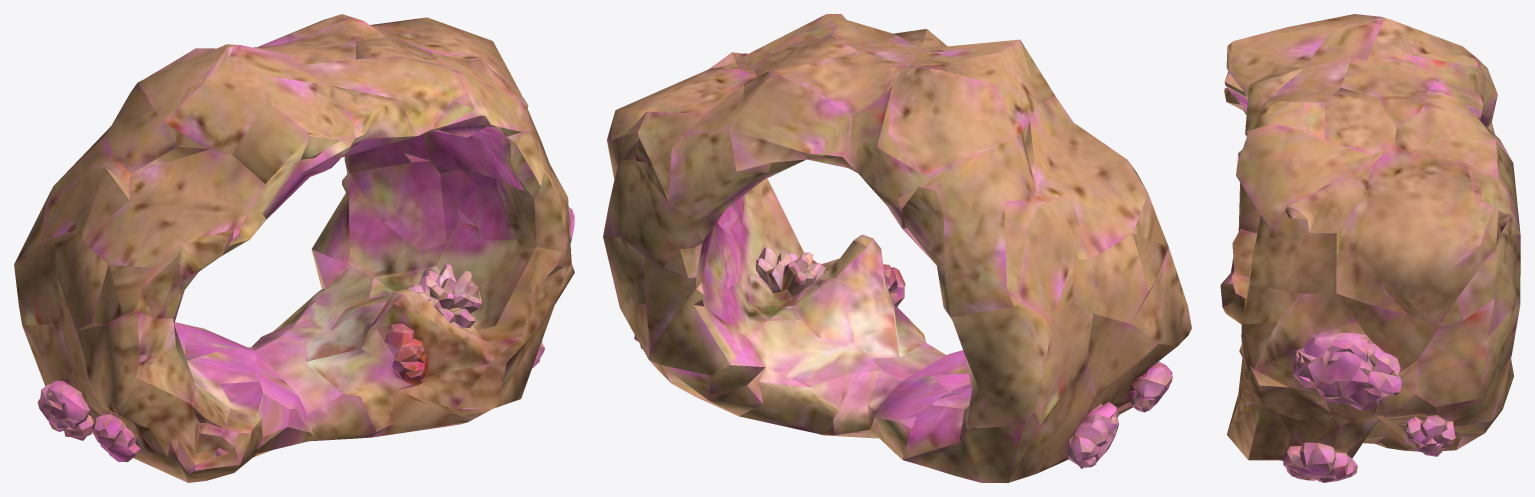
The model's file is coral-arch.lod1.glb.
3 views of the same model, side by side, from view 1: azimuth 30°, elevation 25°; view 2: azimuth 150°, elevation 25°; view 3: azimuth 270°, elevation 25° (orthographic). The views are drawn at different scales.
Bounding box in the file's own units: 0.9938 × 0.6911 × 0.5346.
1 material, 1 textured.
